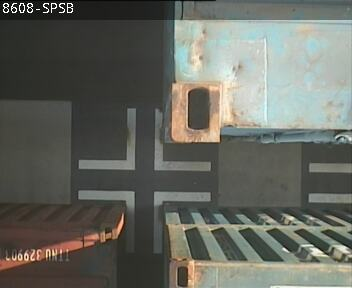groundmarker_1: (77, 108, 210, 171), (77, 189, 210, 252)
